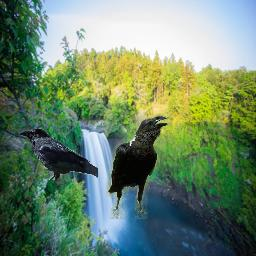Crow: (106, 113, 171, 219), (18, 128, 98, 181)
